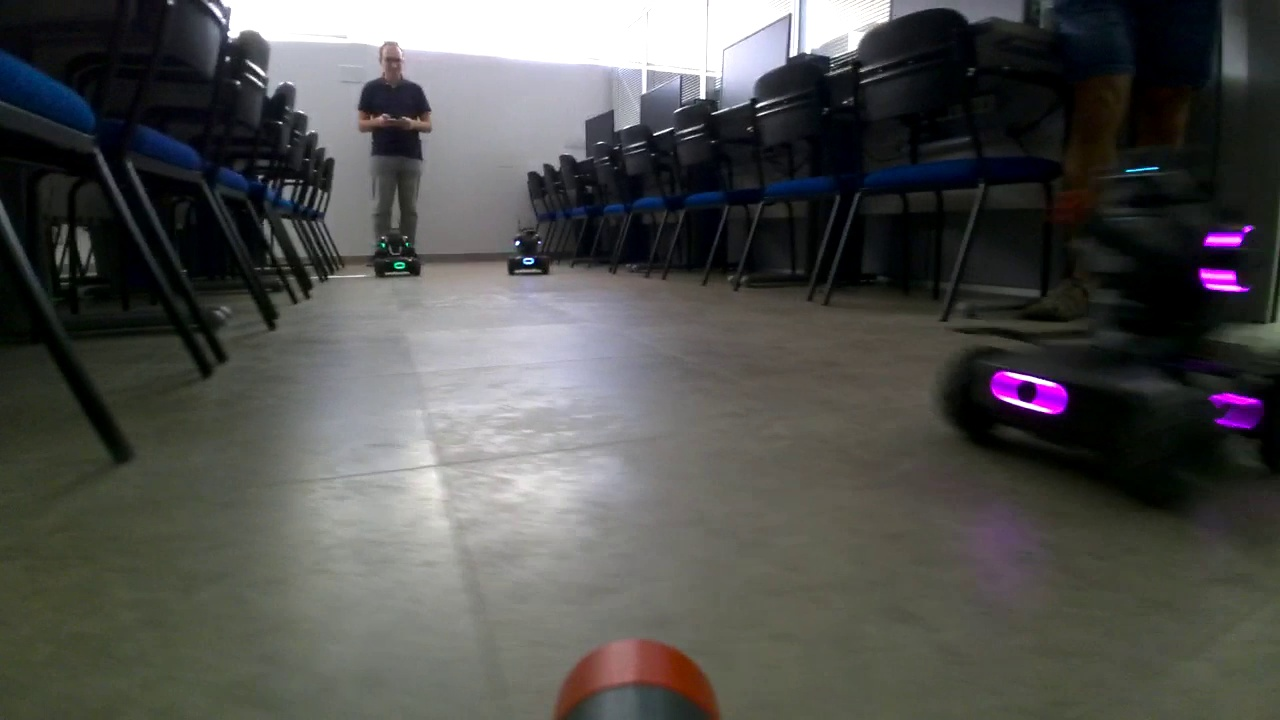robot: (941, 166, 1280, 513), (368, 230, 423, 280), (507, 220, 552, 276)
